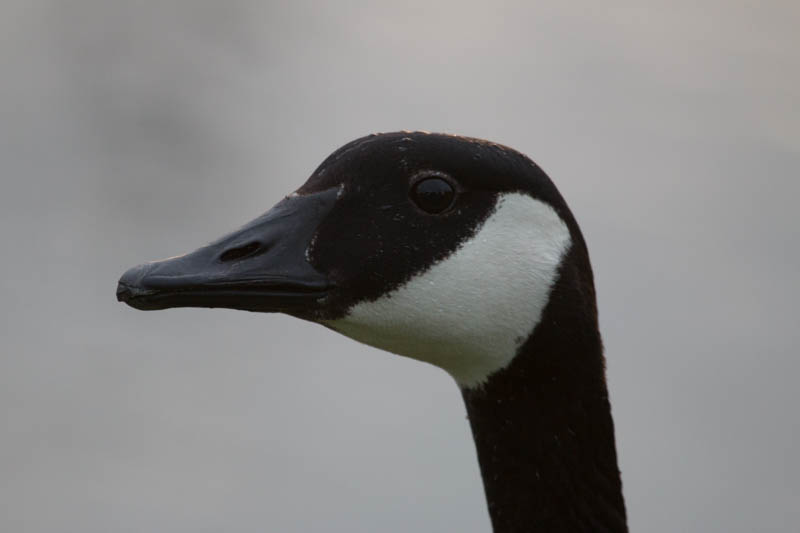goose-head: (115, 130, 599, 388)
